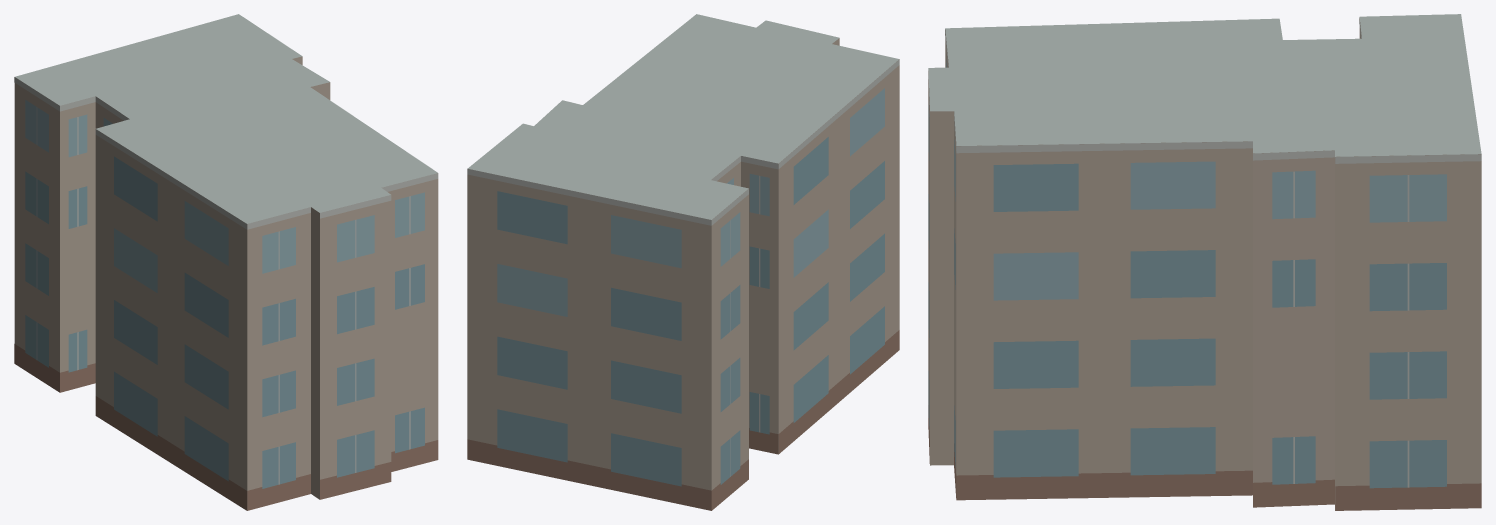
File: survey-upis-32659106.glb
3 views of the same model, side by side, from view 1: azimuth 30°, elevation 25°; view 2: azimuth 150°, elevation 25°; view 3: azimuth 270°, elevation 25° (orthographic). The views are drawn at different scales.
Parts seen in each view (by area): view 1: survey-upis-32659106.tmp; view 2: survey-upis-32659106.tmp; view 3: survey-upis-32659106.tmp.
Boxes of the visible parts, left/top/right/bottom form: survey-upis-32659106.tmp: left=14, top=14, right=438, bottom=510; survey-upis-32659106.tmp: left=467, top=14, right=899, bottom=510; survey-upis-32659106.tmp: left=928, top=14, right=1481, bottom=510.
Size of the model in its own units: 10.56 by 12.2 by 17.29.
